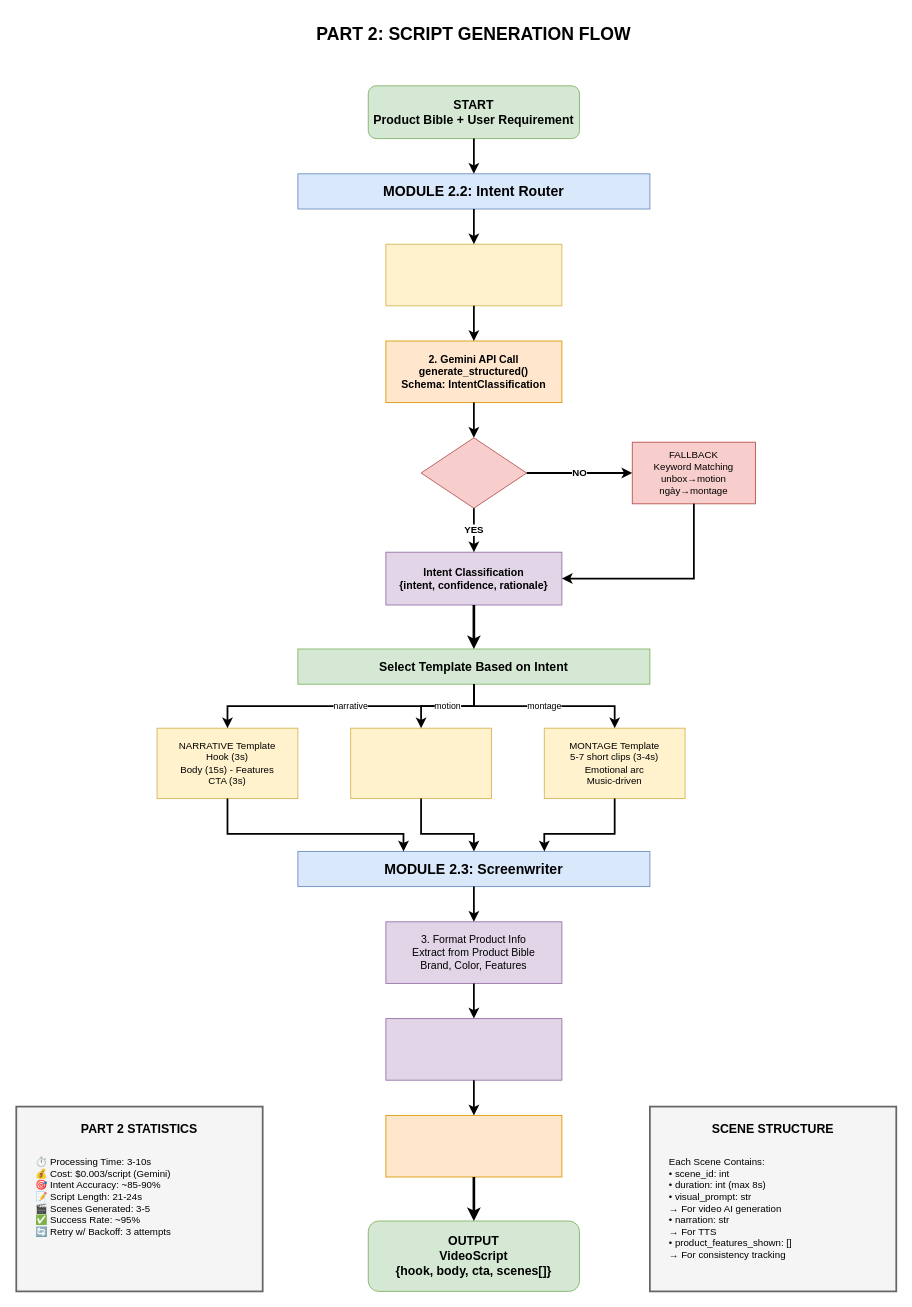
Image size: 912x1307. Some labels were removed from this diagram. The centre of each missing label's shape, as x and y in pixels:
"1. Build Classification Prompt User requirement + Product name + Intent examples" belongs at (473,274).
"4. Build Final Prompt Template + Product Info + User Requirement" belongs at (473,1049).
"5. Gemini API Call generate_structured() Schema: VideoScript" belongs at (473,1146).
"API Call Success?" belongs at (473,472).
"MOTION Template Fast cuts Camera movements Action-driven" belongs at (420,763).
